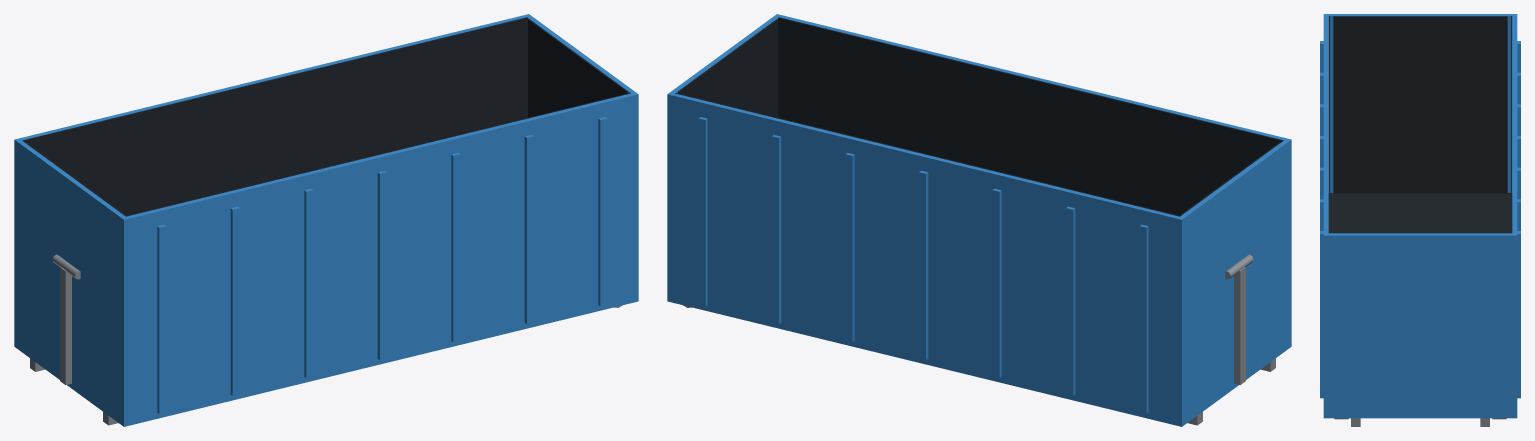
File: abroll-36.glb
The picture shows the model from 3 angles, left to right: view 1: azimuth 30°, elevation 25°; view 2: azimuth 150°, elevation 25°; view 3: azimuth 270°, elevation 25°; orthographic projection. The views are drawn at different scales.
Size of the model in its own units: 6.58 by 2.62 by 2.49.
